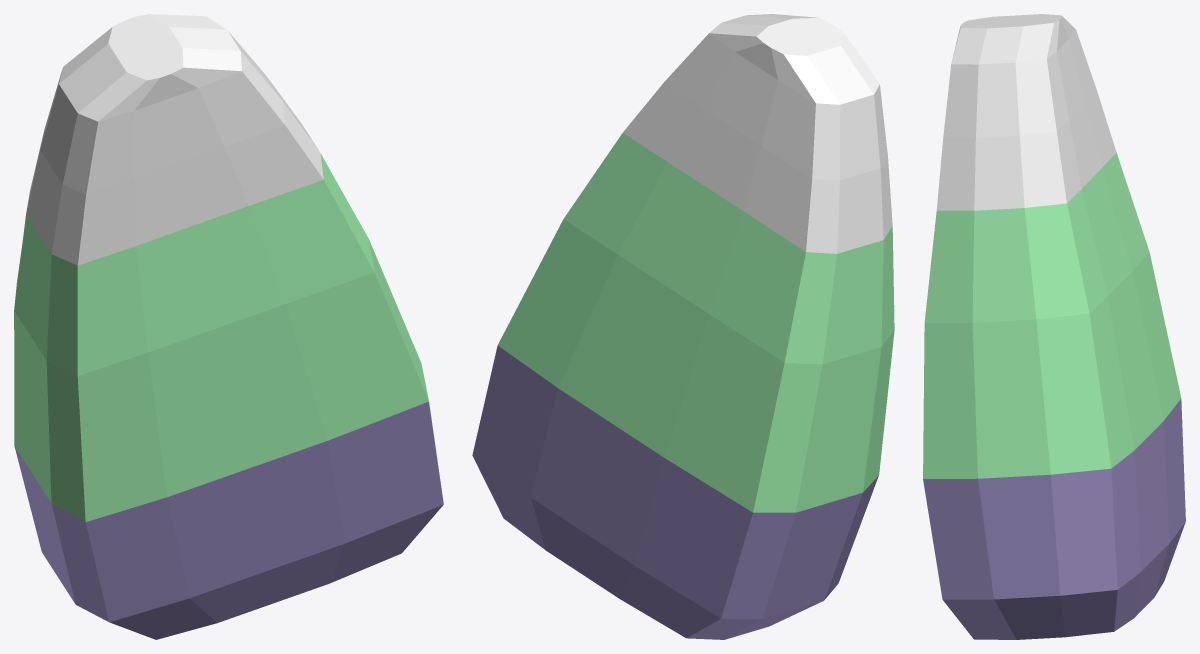
The model's file is Halloween.PurpleCorn.fbx.
3 views of the same model, side by side, from view 1: azimuth 30°, elevation 25°; view 2: azimuth 150°, elevation 25°; view 3: azimuth 270°, elevation 25° (orthographic). The views are drawn at different scales.
Visible parts, largest first — view 1: PurpleCorn; view 2: PurpleCorn; view 3: PurpleCorn.
Part boxes in pixels (left/top/right/bottom): PurpleCorn: left=14, top=14, right=443, bottom=639; PurpleCorn: left=472, top=14, right=894, bottom=639; PurpleCorn: left=923, top=14, right=1185, bottom=639.
Size of the model in its own units: 58.94 by 89.65 by 37.45.
